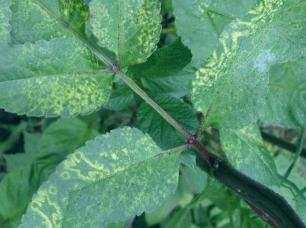Tomato leaf mosaic virus: (47, 93, 199, 228), (0, 8, 127, 167), (158, 23, 287, 154), (49, 0, 197, 77)
